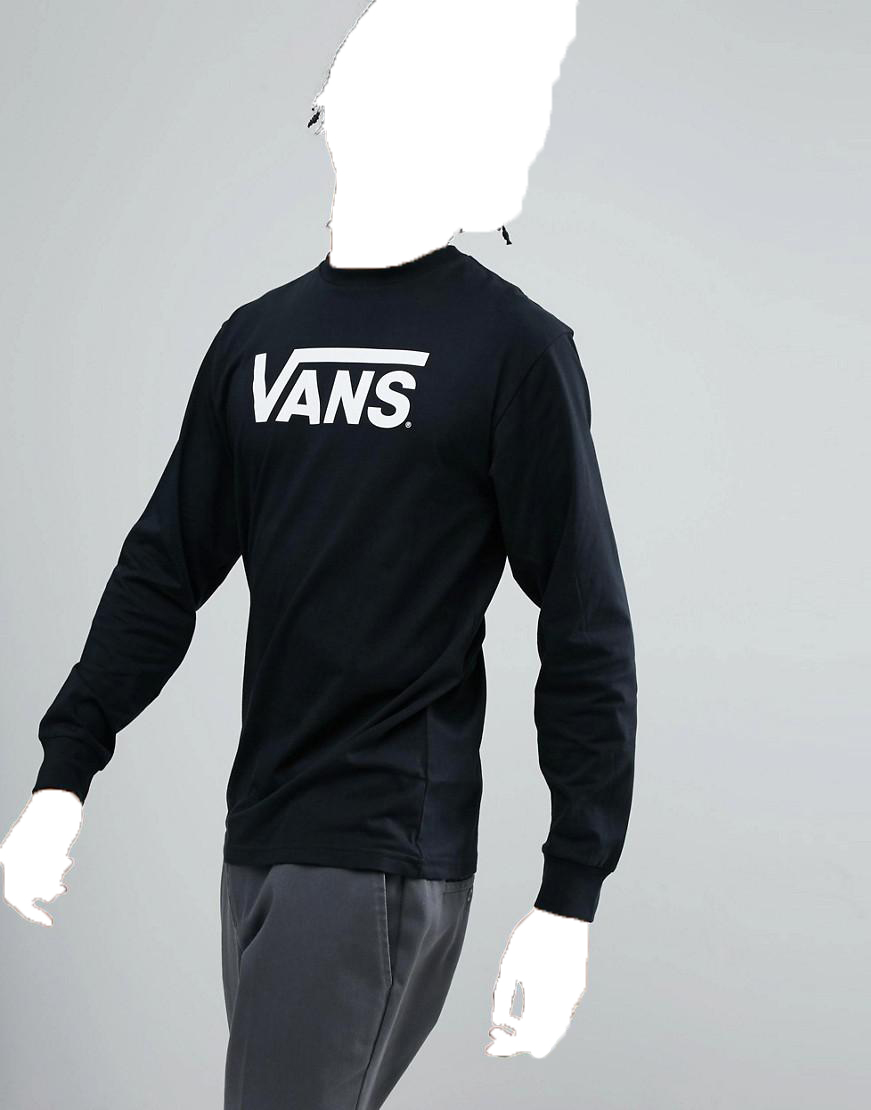teeshirt: (25, 242, 654, 918)
